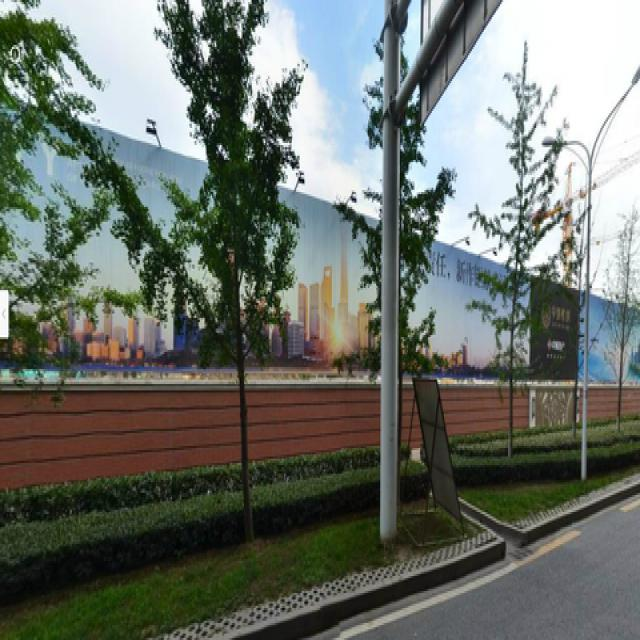gink: (158, 6, 298, 540), (486, 62, 558, 454)
